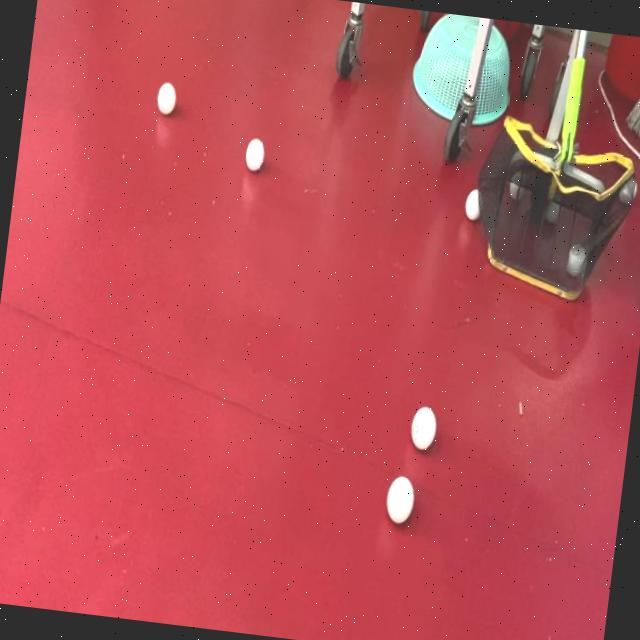ping-pong-ball: (381, 468, 420, 529), (406, 401, 441, 452), (242, 132, 269, 174), (153, 78, 180, 119), (462, 185, 486, 223)
